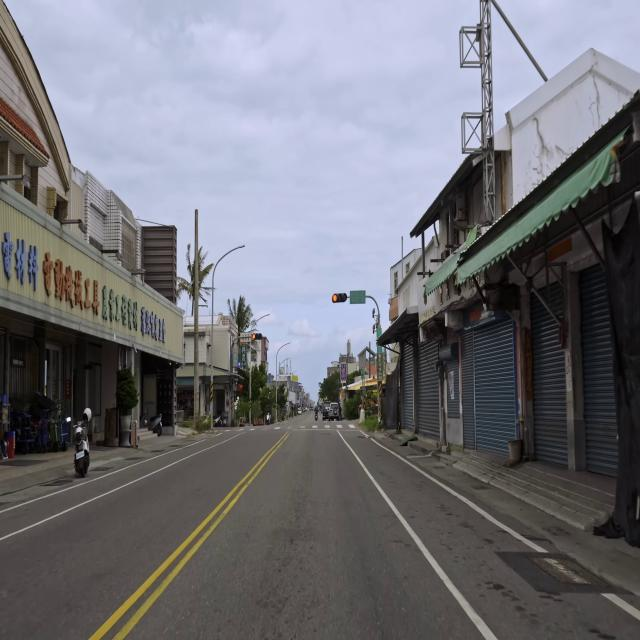red light: (332, 293, 348, 303), (252, 333, 263, 340)
